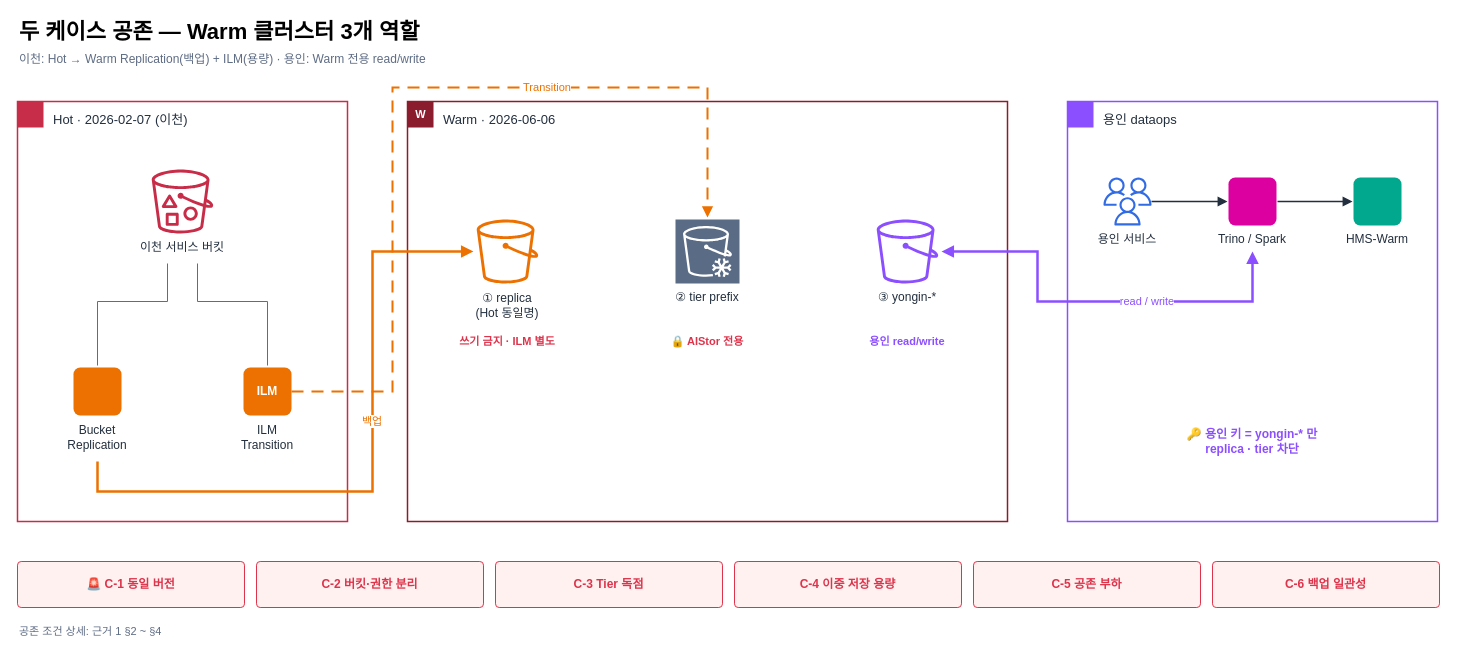
Image size: 1458x658. Some labels were removed from this diagram. The shapes that lost their labels are listed below. From the top down, each one's centre as x and y in pixels, then its label:
(30,114): S3
(1080,114): k8s
(1252,201): Trino
(1377,201): HMS
(97,391): REP
